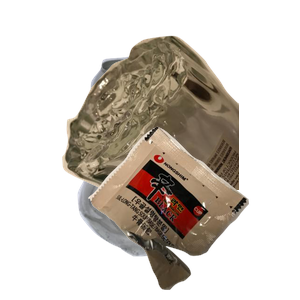glass: (60, 33, 300, 213)
metal: (85, 48, 300, 228)
plastic: (75, 154, 248, 300)
trash: (86, 124, 300, 300)
